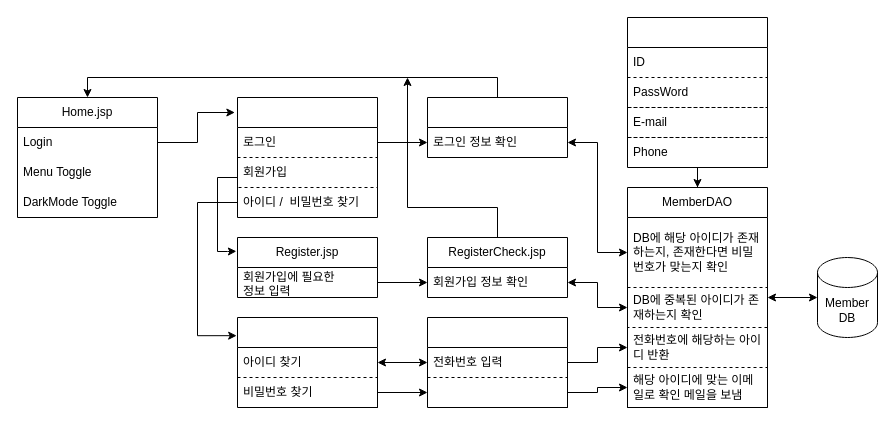
Some shapes in this 895 by 425 pixel diagram are drawn without their labels. The box of each missing label's shape, as (x1, y1, x2, y2) in pixels:
FindCheck.jsp: (426, 316, 568, 408)
FindMyIdPw.jsp: (236, 316, 378, 408)
Login.jsp: (236, 96, 378, 218)
LoginCheck.jsp: (426, 96, 568, 158)
MemberVO: (626, 16, 768, 168)
아이디와 전화번호 입력: (426, 376, 568, 408)
